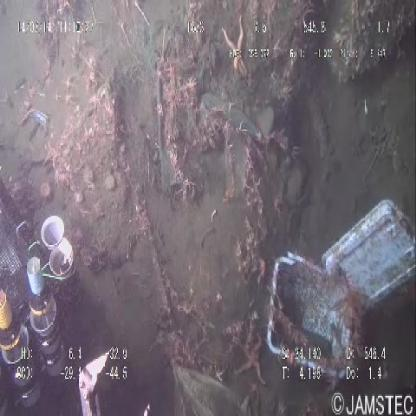Rov: (1, 140, 158, 416)
Rác: (267, 184, 416, 388)
